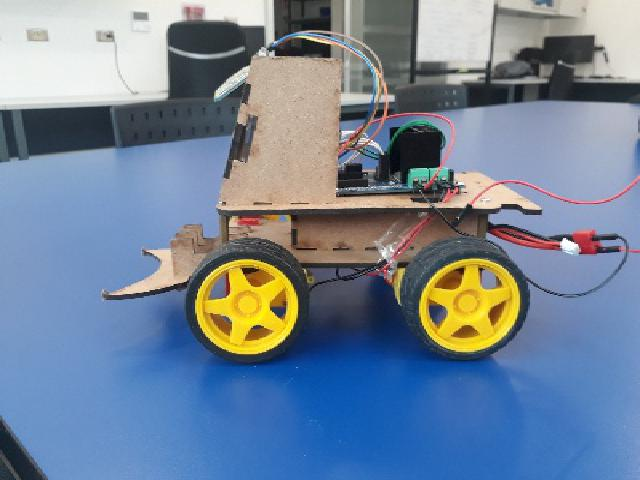Robot: (101, 26, 555, 366)
